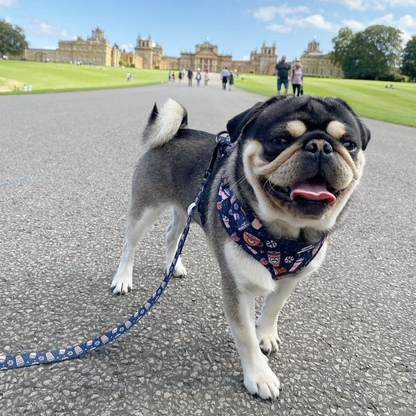Pug: (107, 89, 376, 403)
